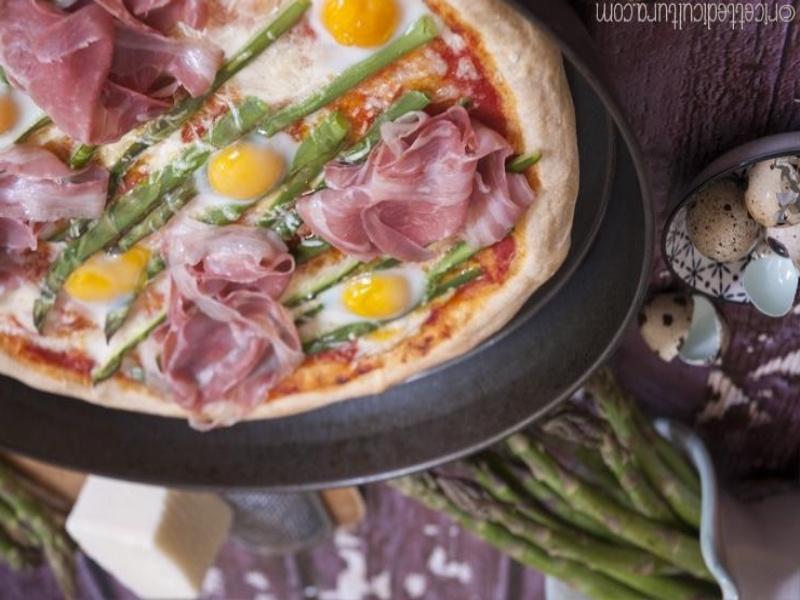oeuf: (66, 244, 150, 316), (337, 266, 423, 330), (205, 136, 285, 203), (309, 3, 417, 51)
